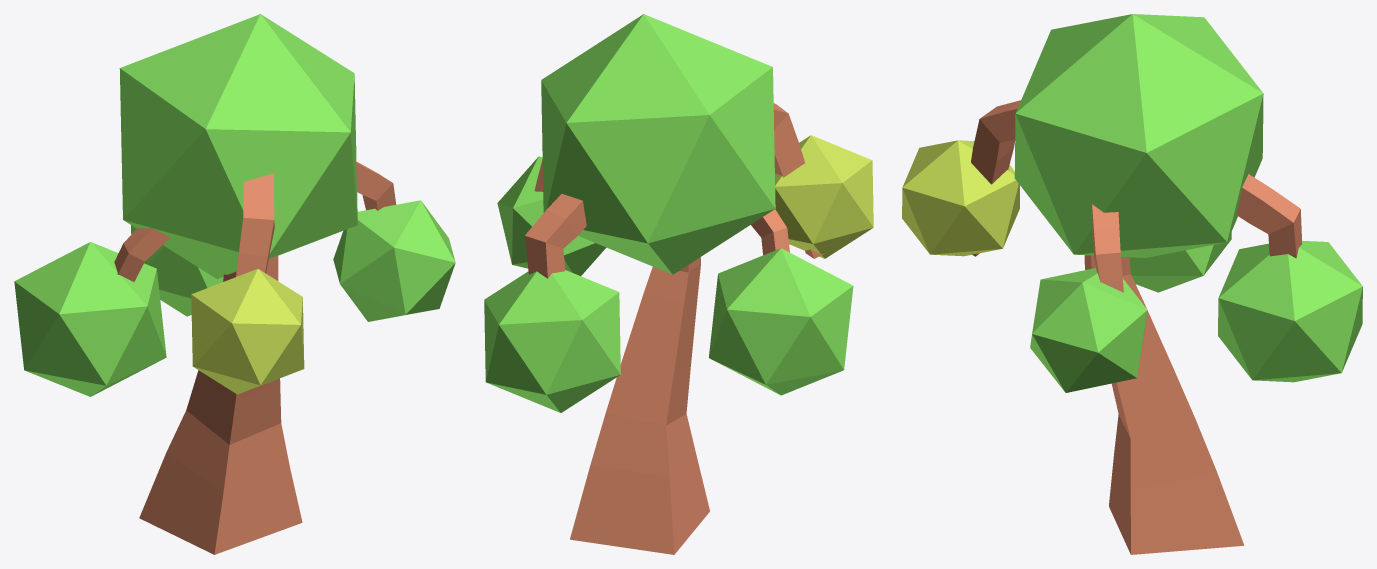
Rendered from Tree 6.fbx.
3 views of the same model, side by side, from view 1: azimuth 30°, elevation 25°; view 2: azimuth 150°, elevation 25°; view 3: azimuth 270°, elevation 25° (orthographic). The views are drawn at different scales.
Parts seen in each view (by area): view 1: Tree 6; view 2: Tree 6; view 3: Tree 6.
Part boxes in pixels (x1,y1,x2,y2): Tree 6: [14, 14, 455, 554]; Tree 6: [484, 14, 873, 554]; Tree 6: [902, 14, 1362, 554].
Size of the model in its own units: 532 by 668 by 535.
